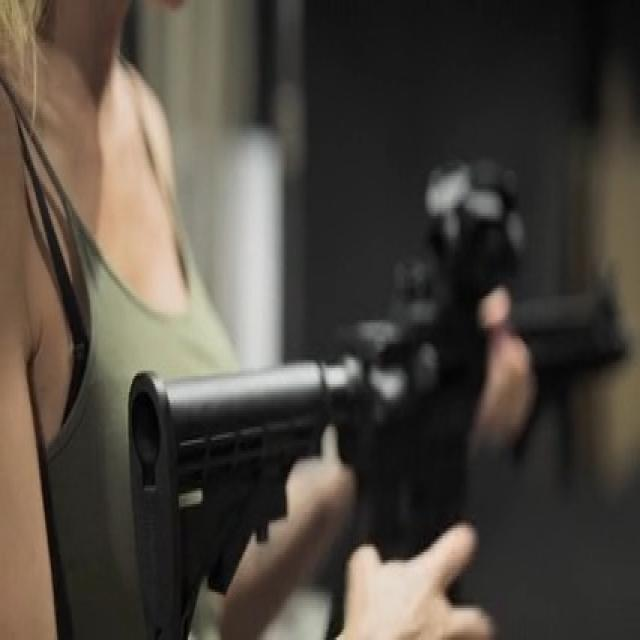Gun_Holder: (120, 151, 640, 640)
